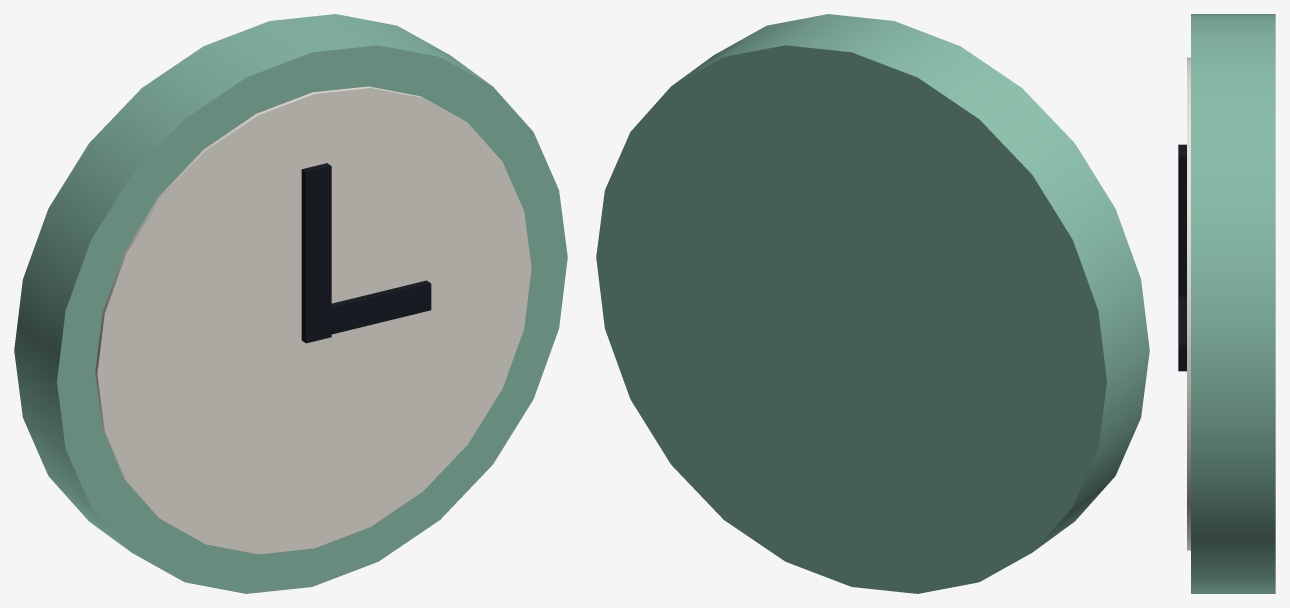
The model's file is wall-clock.glb.
The picture shows the model from 3 angles, left to right: view 1: azimuth 30°, elevation 25°; view 2: azimuth 150°, elevation 25°; view 3: azimuth 270°, elevation 25°; orthographic projection.
Parts seen in each view (by area): view 1: wall-clock; view 2: wall-clock; view 3: wall-clock.
Boxes of the visible parts, x1=… form: wall-clock: x1=14, y1=14, x2=567, y2=593; wall-clock: x1=596, y1=14, x2=1149, y2=593; wall-clock: x1=1178, y1=14, x2=1275, y2=593.
Size of the model in its own units: 30 by 30 by 5.
